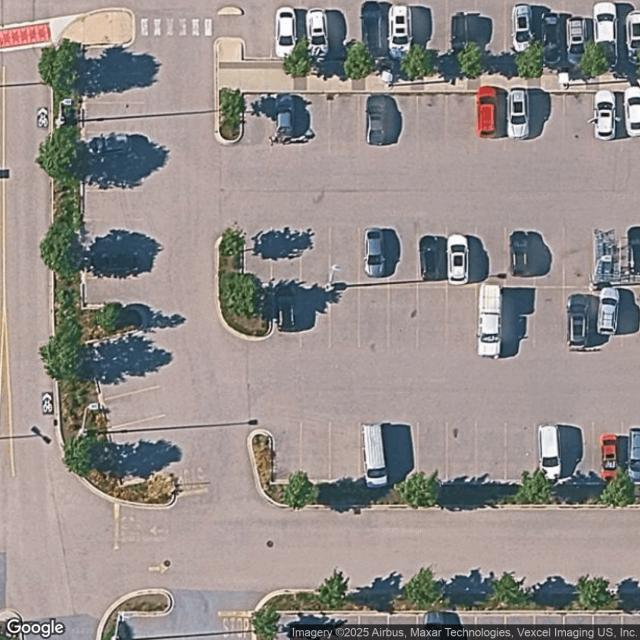car: (477, 282, 503, 361), (360, 422, 390, 488), (591, 1, 620, 68), (358, 0, 385, 60), (387, 2, 415, 59), (474, 84, 500, 144), (566, 291, 592, 348), (510, 2, 536, 56), (417, 232, 444, 284), (272, 284, 300, 334), (538, 424, 562, 482), (274, 4, 299, 59), (537, 11, 562, 66), (592, 88, 618, 140), (362, 226, 388, 278), (364, 93, 389, 147), (565, 15, 589, 70), (506, 86, 530, 141), (305, 8, 330, 60), (596, 286, 622, 336), (447, 233, 471, 286), (93, 252, 143, 277), (507, 230, 531, 281), (599, 430, 621, 485), (86, 134, 132, 158), (274, 93, 296, 141), (448, 11, 470, 58), (622, 86, 640, 139), (423, 609, 452, 640), (625, 424, 640, 482), (625, 8, 640, 64)
lot_boundary: (81, 0, 639, 639)
objects: (216, 38, 639, 143), (248, 429, 639, 510), (253, 588, 639, 639), (217, 234, 274, 341), (594, 227, 640, 285), (83, 307, 146, 342)
stall: (88, 330, 150, 375), (93, 358, 158, 400), (102, 386, 164, 429), (108, 415, 170, 458), (116, 443, 170, 485), (83, 220, 143, 252), (83, 101, 144, 132), (330, 419, 360, 482), (536, 422, 566, 484), (476, 422, 506, 484), (84, 158, 144, 189), (84, 190, 144, 220), (448, 0, 479, 58), (507, 0, 538, 58), (447, 422, 476, 484), (506, 422, 535, 484), (417, 422, 446, 484), (388, 421, 417, 483), (362, 420, 391, 482), (301, 420, 330, 482), (593, 421, 622, 483), (82, 73, 144, 102), (330, 228, 360, 287), (300, 228, 330, 287), (360, 228, 390, 287), (447, 228, 477, 287), (504, 228, 534, 287), (534, 228, 564, 287), (388, 288, 418, 347), (359, 288, 389, 347), (534, 287, 564, 346), (478, 288, 508, 347), (358, 0, 388, 58), (386, 0, 416, 58), (417, 0, 447, 58), (388, 229, 418, 287), (416, 229, 446, 287), (563, 228, 593, 286), (330, 289, 360, 347), (242, 229, 272, 287), (270, 227, 300, 285), (446, 288, 476, 346), (416, 288, 446, 346), (299, 289, 329, 347), (274, 420, 302, 482), (566, 421, 594, 483), (329, 0, 358, 59), (298, 1, 328, 58), (563, 288, 592, 346), (84, 251, 144, 279), (477, 0, 505, 58), (272, 0, 300, 58), (477, 228, 505, 286), (594, 287, 622, 345), (506, 288, 534, 346), (273, 289, 300, 348), (537, 13, 565, 69), (562, 12, 590, 68), (592, 12, 620, 68), (245, 0, 271, 58), (83, 279, 143, 304), (81, 134, 143, 158), (300, 93, 330, 141), (504, 92, 534, 140), (268, 93, 298, 141), (82, 48, 144, 71), (418, 93, 448, 140), (329, 93, 359, 140), (474, 92, 504, 139), (564, 92, 594, 139), (534, 93, 564, 140), (360, 93, 390, 140), (389, 93, 419, 140), (242, 93, 270, 141), (593, 92, 621, 140), (448, 93, 476, 140), (620, 286, 640, 346), (619, 10, 640, 67), (623, 422, 640, 483), (620, 92, 640, 140), (416, 615, 446, 640), (446, 615, 476, 640), (476, 615, 506, 640), (534, 615, 564, 640), (330, 615, 360, 640), (278, 615, 308, 640), (564, 615, 593, 640), (594, 615, 623, 640), (305, 615, 334, 640), (388, 615, 417, 640), (359, 615, 388, 640), (506, 615, 534, 640), (623, 613, 640, 638)
